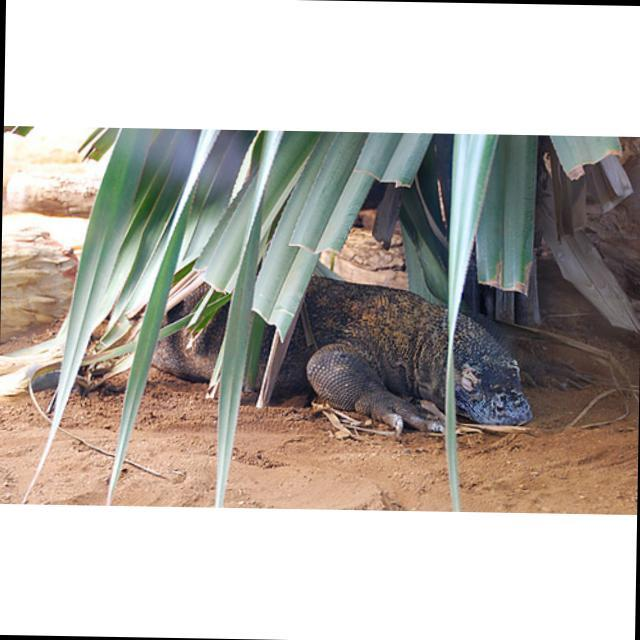KomodoDragon: (73, 266, 596, 443)
